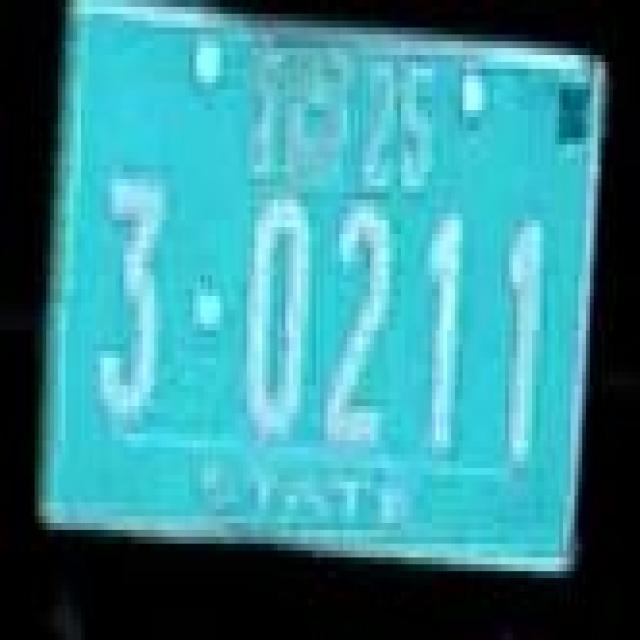State: (247, 48, 354, 192)
